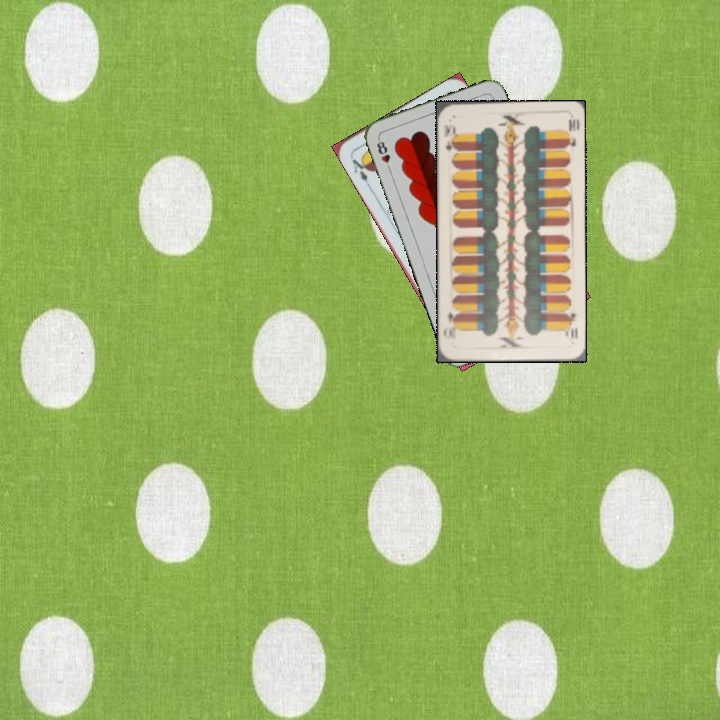E10: (440, 121, 459, 157), (561, 309, 580, 341)
EA: (346, 152, 372, 189)
H8: (373, 135, 394, 174)
